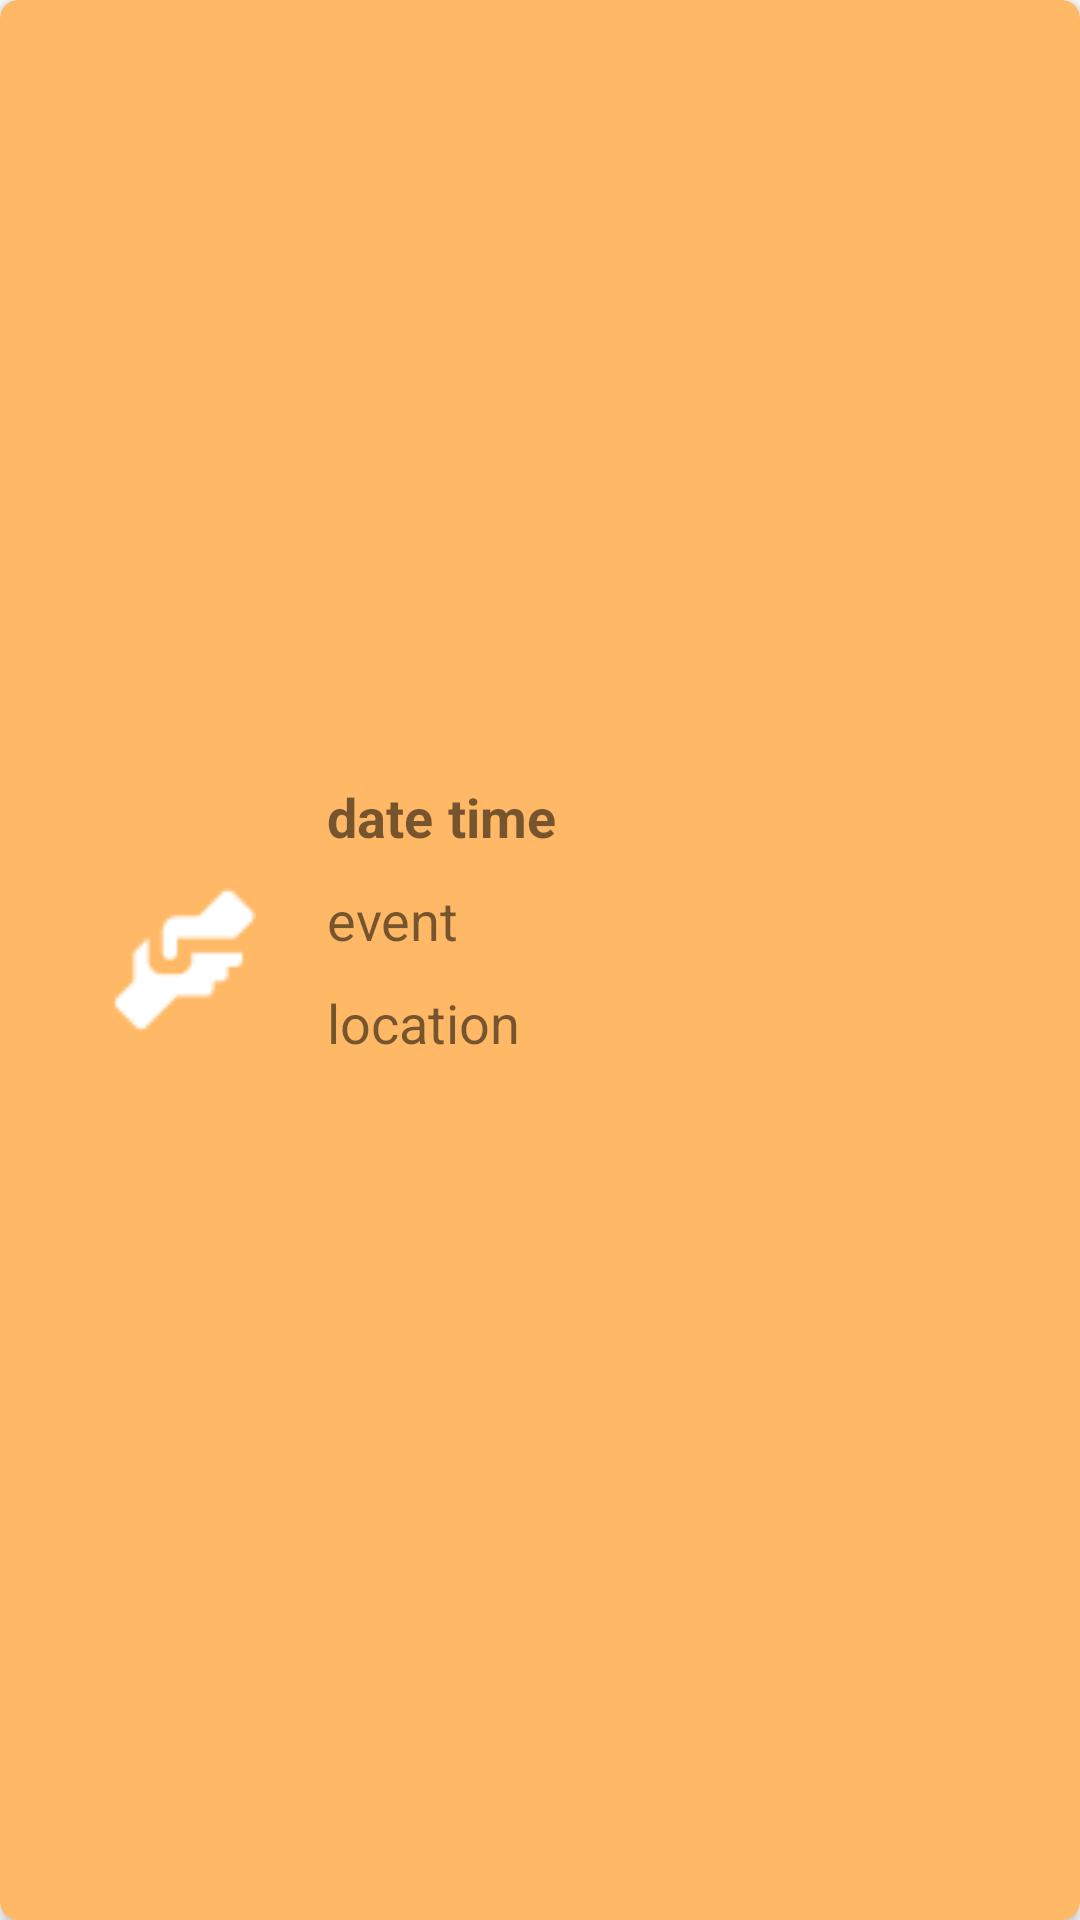

Named icons in this screenshot (1080×1920) and their centers, (x,y):
care: (185,959)
